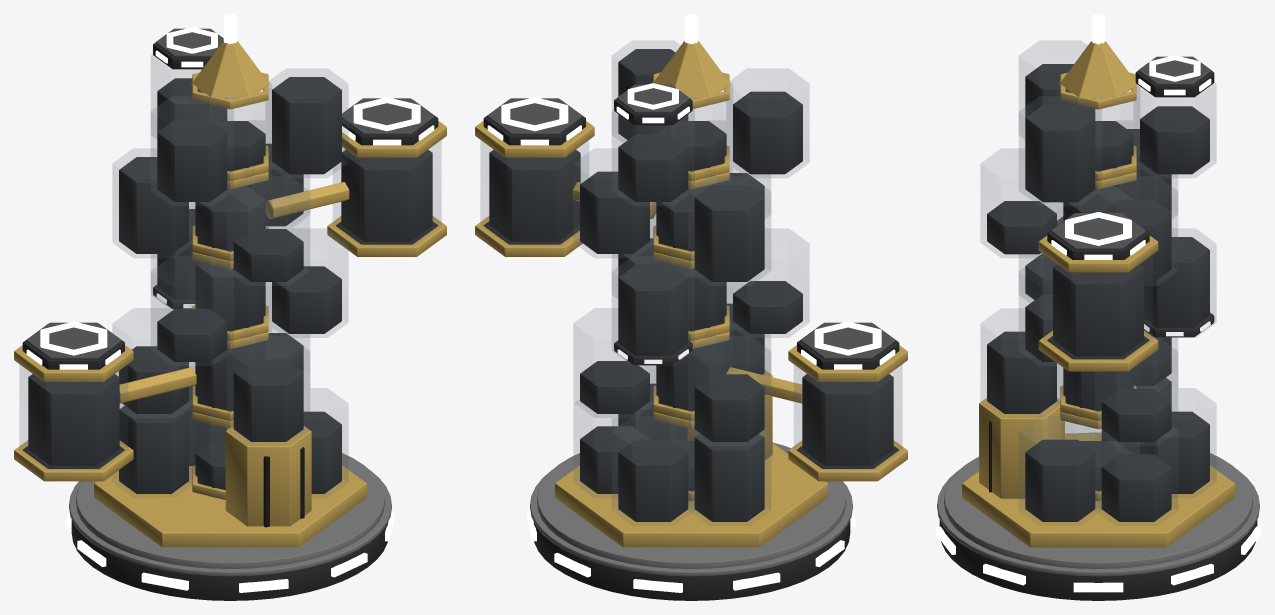
Rendered from Skin_Hive_T2.glb.
3 renders of one model, left to right at view 1: azimuth 30°, elevation 25°; view 2: azimuth 150°, elevation 25°; view 3: azimuth 270°, elevation 25°, orthographic.
Visible parts, largest first — view 1: Skin_Hive_T2; view 2: Skin_Hive_T2; view 3: Skin_Hive_T2.
Boxes of the visible parts, <box> form: Skin_Hive_T2: <box>14,14,446,600</box>; Skin_Hive_T2: <box>475,14,907,600</box>; Skin_Hive_T2: <box>936,14,1260,600</box>.
Bounding box in the file's own units: 5.28 × 6.48 × 3.67.
